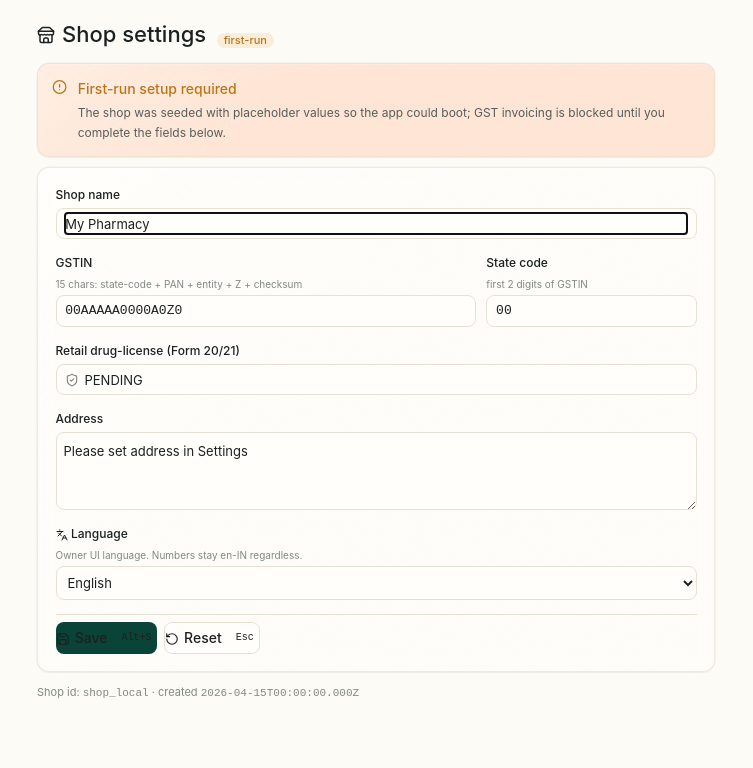
Scenario: SettingsScreen (F5b) › requires state_code to match first 2 chars of GSTIN
The width and height of the screenshot is (753, 768).
Replace the text in the field with test id "f-name" with "Vaidyanath Pharmacy" at (376, 224), box [65,214,687,235]
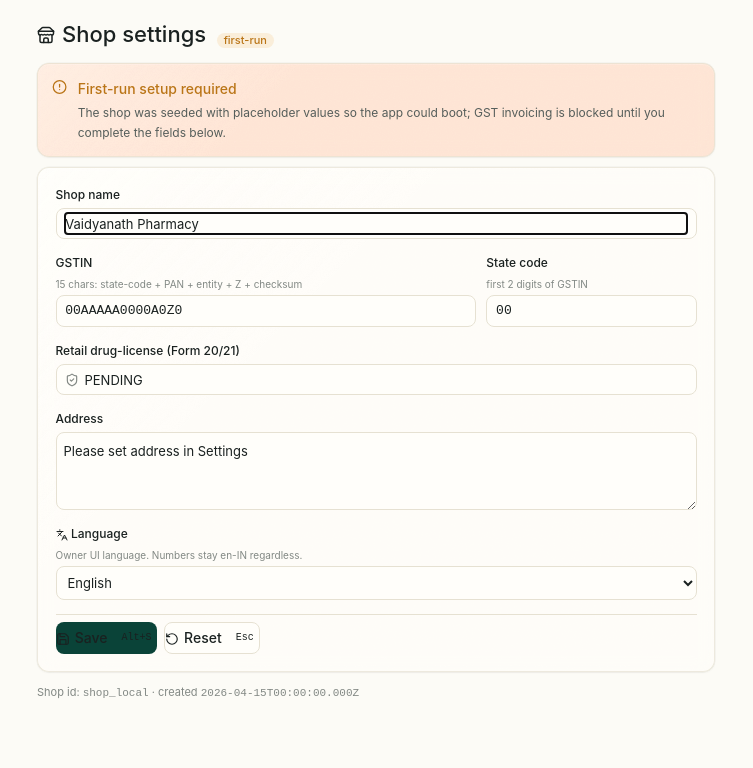
Replace the text in the field with test id "f-gstin" with "27ABCDE1234F1Z5" at (266, 312), box [65,302,466,322]
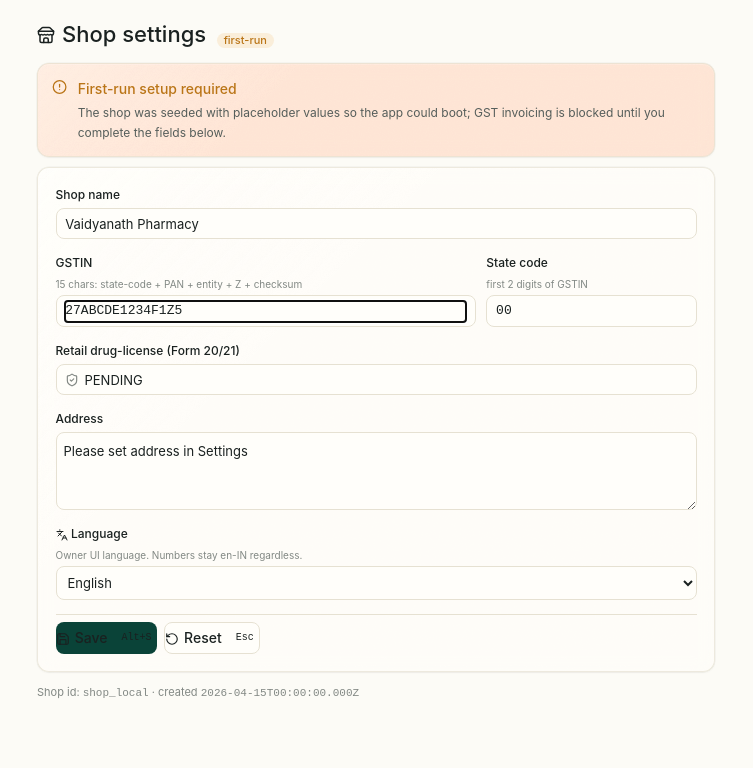
Replace the text in the field with test id "f-state" with "29" at (591, 312), box [496,302,687,322]
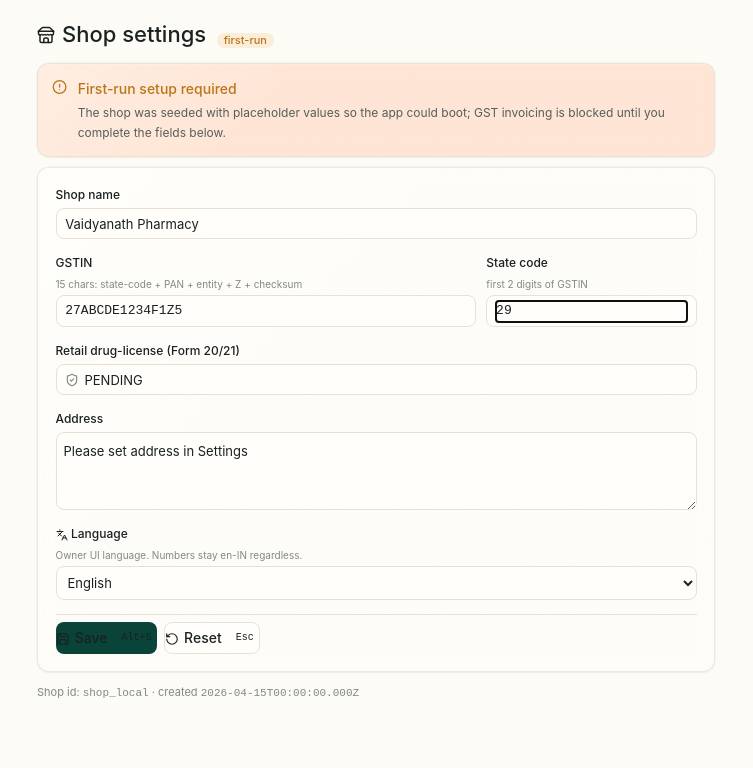
Replace the text in the field with test id "f-license" with "21B/MH/KL/999" at (386, 380), box [84,370,687,390]
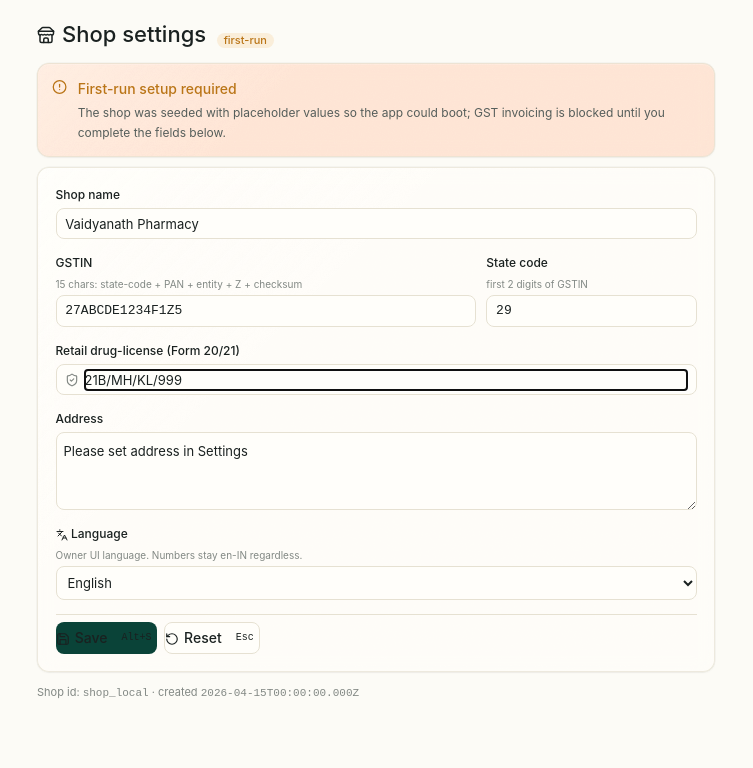
Replace the text in the text box with test id "f-address" with "1st Floor, Kalyan" at (376, 472), box [56,432,696,511]
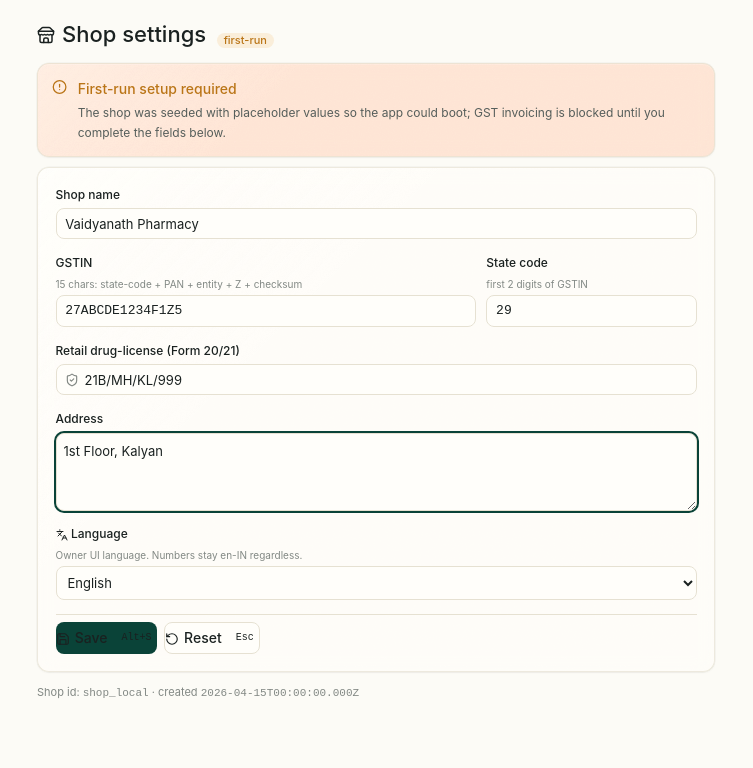
Click the button with test id "f-save" at (106, 639), box [56,623,157,655]
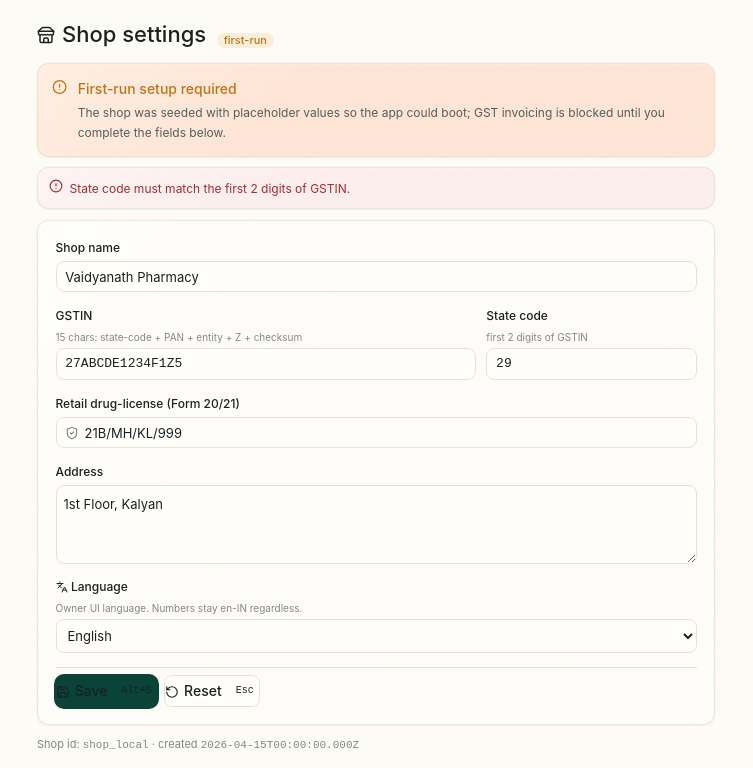
Expected: the element with test id "settings-err" shows "State code must match", [70,181,350,196]
